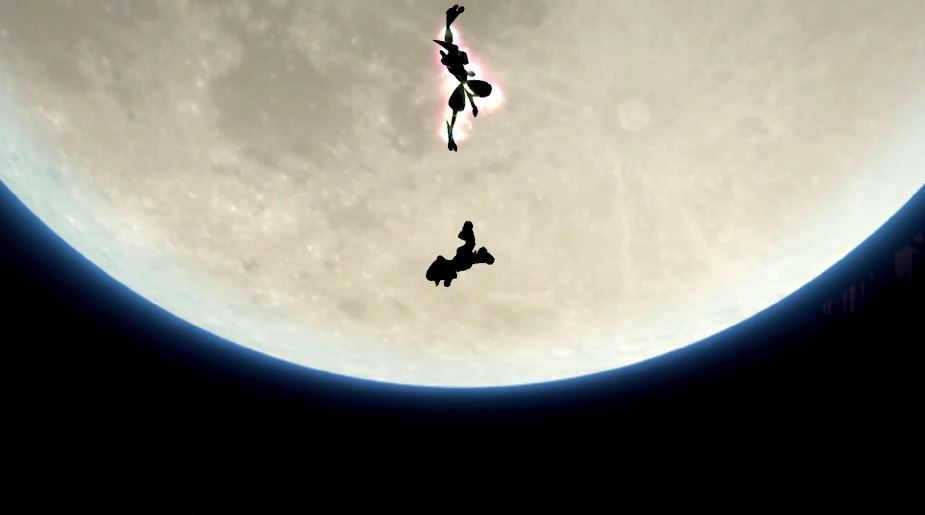greninja: (431, 1, 494, 161)
